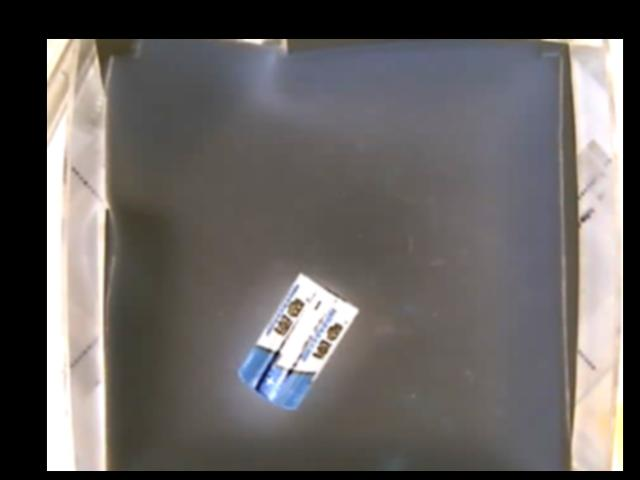Battery: (238, 272, 362, 411)
